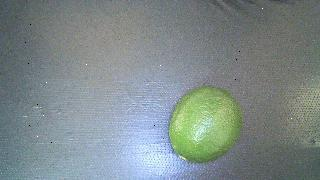EXPORTACION: (169, 87, 243, 163)
